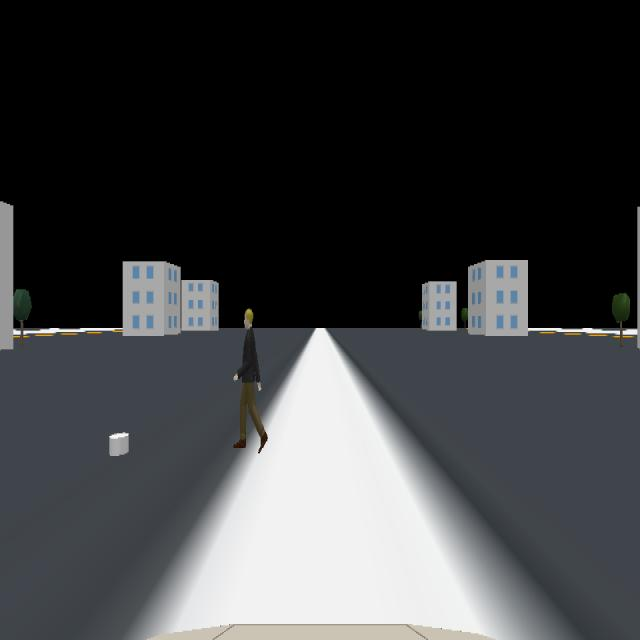human: (232, 307, 268, 453)
